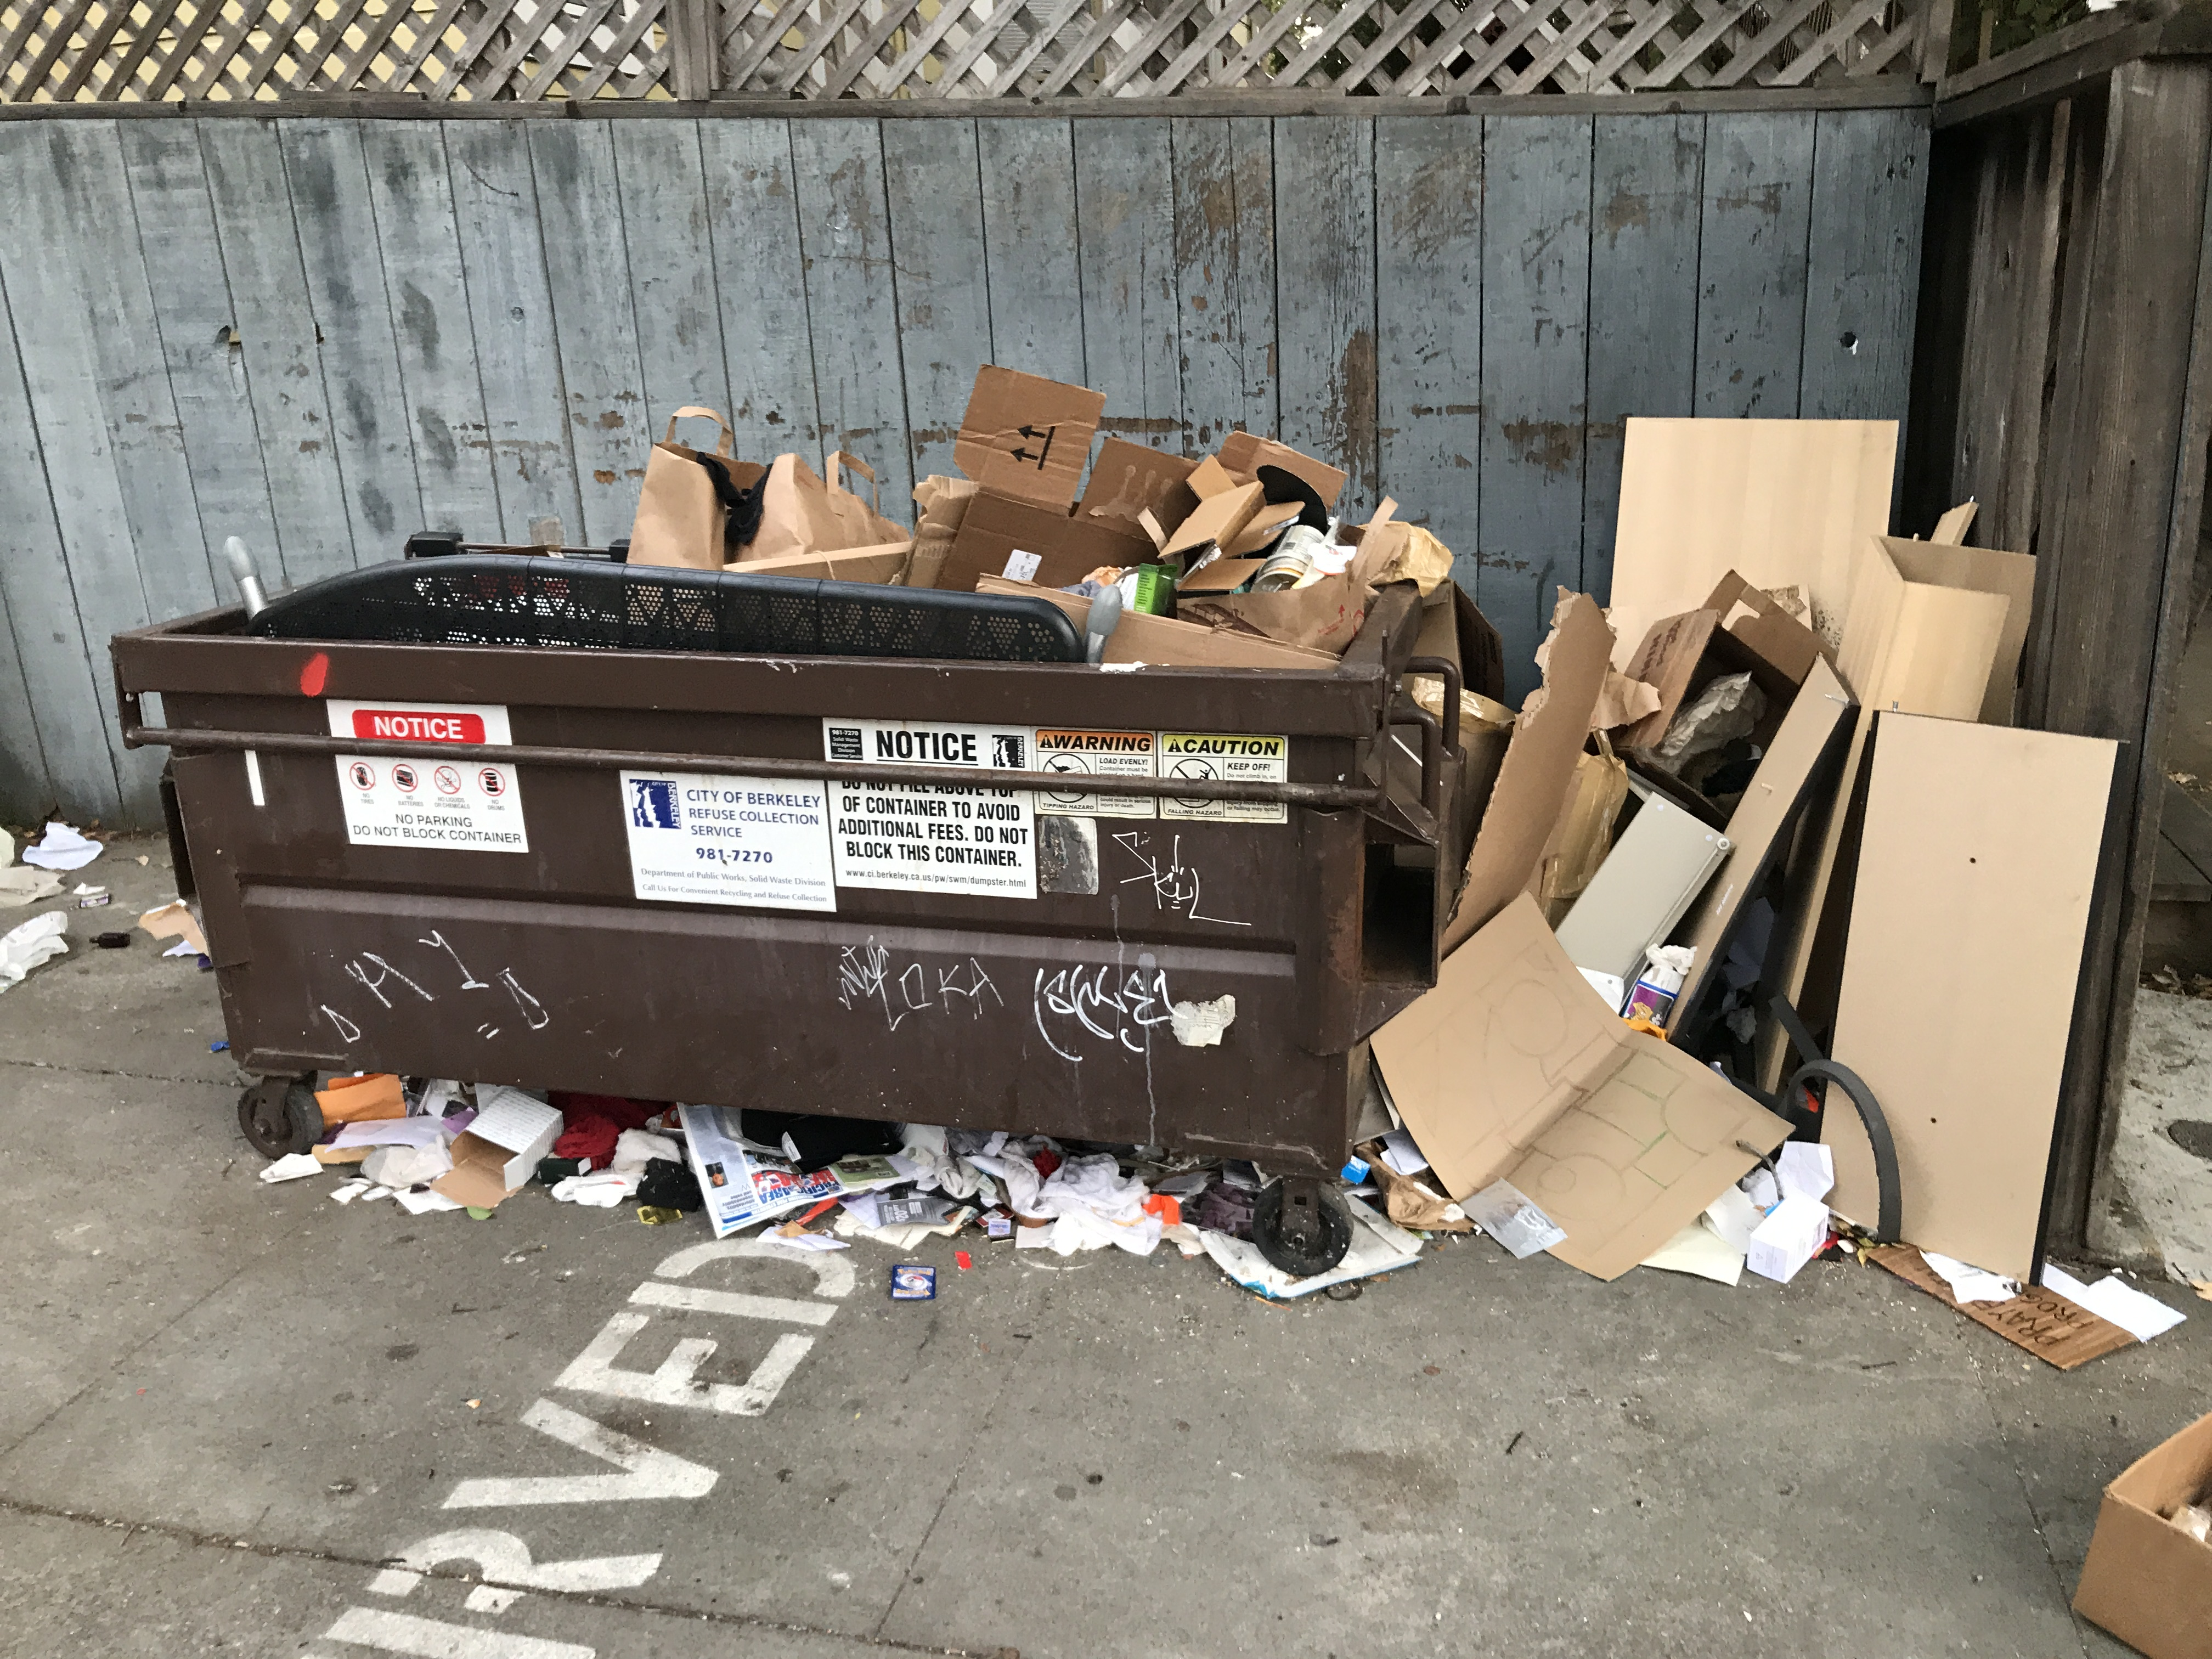Dumpster: (111, 528, 1468, 1297)
